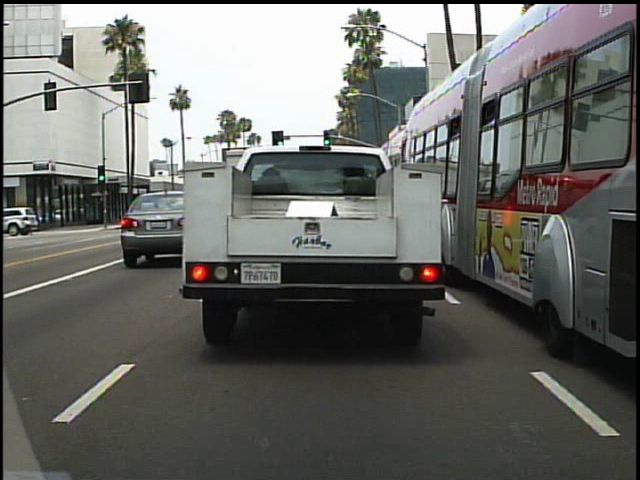person: (21, 205, 41, 240)
